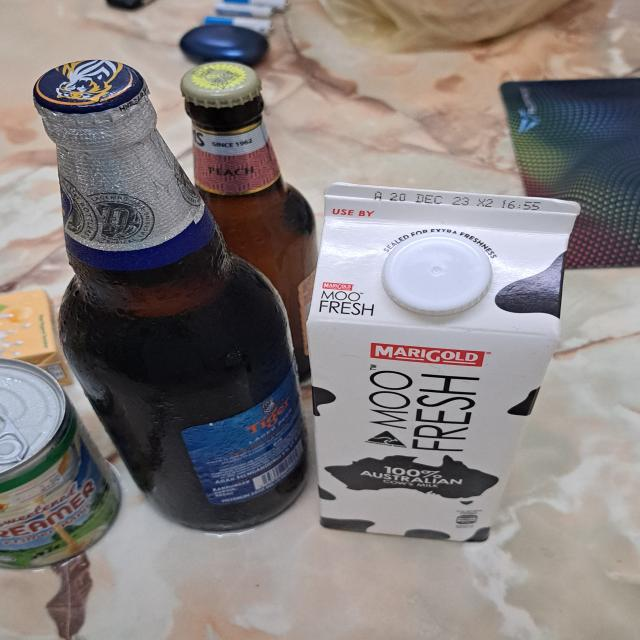can: (0, 358, 122, 565)
drink carton: (305, 179, 580, 543)
glass bottle: (34, 58, 308, 534), (180, 63, 319, 386)
plastic bottle cap: (385, 232, 490, 316)
pop tab: (0, 411, 29, 466)
